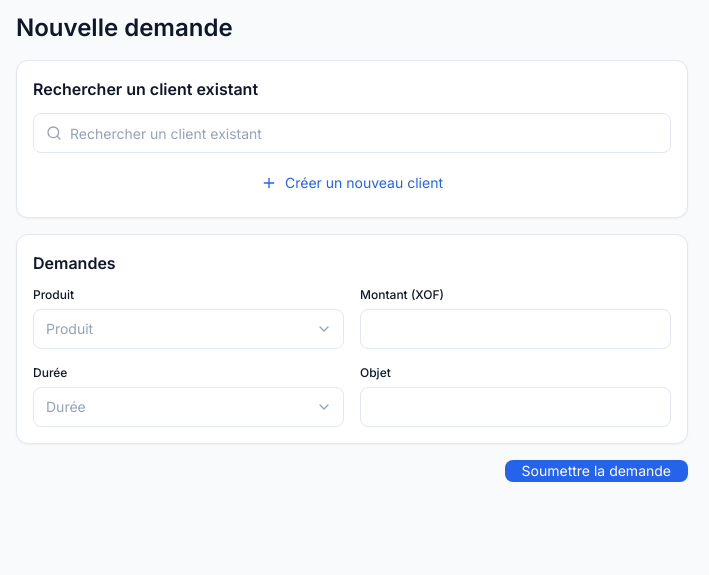
it: ApplicationNewPage › shows validation errors when submitting an empty form
Click the button "Soumettre la demande": [596, 471] box [505,460,688,482]
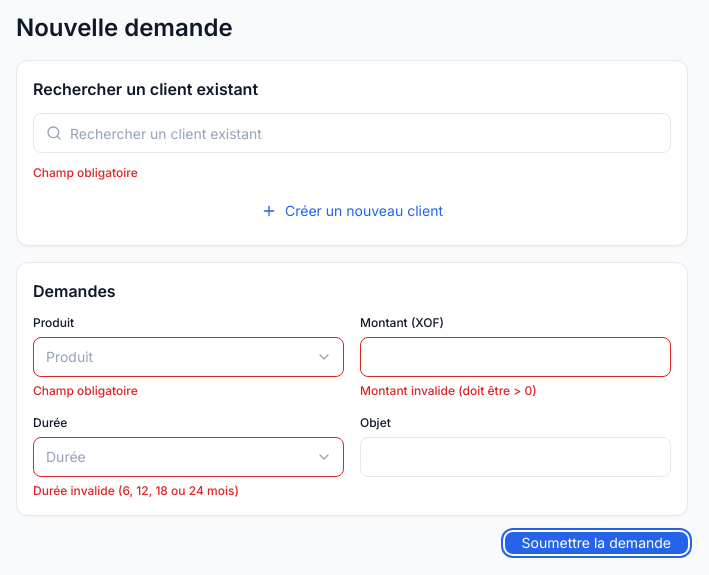
Now the text "Champ obligatoire" below "Rechercher un client existant" is shown, box [33,165,138,180]
Now the text "Montant invalide (doit être > 0)" is shown, box [360,383,537,398]
Now the text "Durée invalide (6, 12, 18 ou 24 mois)" is shown, box [33,483,239,498]
